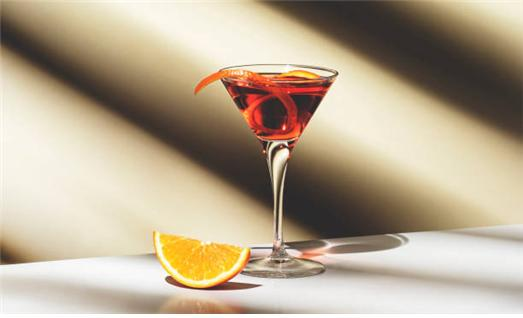alcohol: (214, 67, 341, 279)
